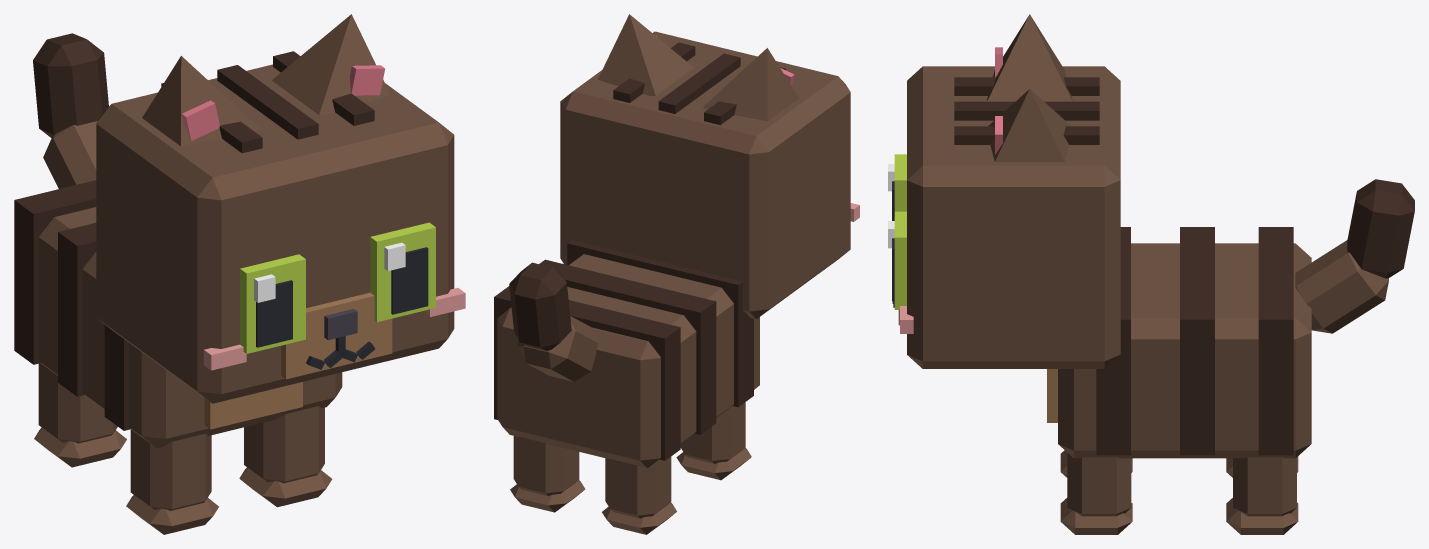
The model's file is CatCafe_Cat_Bramble.glb.
The picture shows the model from 3 angles, left to right: view 1: azimuth 30°, elevation 25°; view 2: azimuth 150°, elevation 25°; view 3: azimuth 270°, elevation 25°; orthographic projection. The views are drawn at different scales.
Parts seen in each view (by area): view 1: CatCafe_Cat_Bramble_Head, CatCafe_Cat_Bramble_Body, CatCafe_Cat_Bramble_Tail, CatCafe_Cat_Bramble_LegF2, CatCafe_Cat_Bramble_LegF1, CatCafe_Cat_Bramble_EarL, CatCafe_Cat_Bramble_Eye2, CatCafe_Cat_Bramble_Eye1, CatCafe_Cat_Bramble_LegB2, CatCafe_Cat_Bramble_EarR; view 2: CatCafe_Cat_Bramble_Head, CatCafe_Cat_Bramble_Body, CatCafe_Cat_Bramble_Tail, CatCafe_Cat_Bramble_LegB2, CatCafe_Cat_Bramble_LegB1, CatCafe_Cat_Bramble_EarL, CatCafe_Cat_Bramble_EarR, CatCafe_Cat_Bramble_LegF2; view 3: CatCafe_Cat_Bramble_Head, CatCafe_Cat_Bramble_Body, CatCafe_Cat_Bramble_Tail, CatCafe_Cat_Bramble_LegF1, CatCafe_Cat_Bramble_LegB1, CatCafe_Cat_Bramble_EarR, CatCafe_Cat_Bramble_EarL, CatCafe_Cat_Bramble_Eye1, CatCafe_Cat_Bramble_Eye2.
Part boxes in pixels (bbox=[...]): CatCafe_Cat_Bramble_Head: bbox=[96, 51, 465, 403]; CatCafe_Cat_Bramble_Body: bbox=[14, 180, 342, 448]; CatCafe_Cat_Bramble_Tail: bbox=[33, 33, 108, 188]; CatCafe_Cat_Bramble_LegF2: bbox=[126, 429, 218, 534]; CatCafe_Cat_Bramble_LegF1: bbox=[239, 406, 332, 507]; CatCafe_Cat_Bramble_EarL: bbox=[271, 14, 390, 115]; CatCafe_Cat_Bramble_Eye2: bbox=[240, 254, 305, 353]; CatCafe_Cat_Bramble_Eye1: bbox=[370, 222, 435, 321]; CatCafe_Cat_Bramble_LegB2: bbox=[34, 363, 126, 467]; CatCafe_Cat_Bramble_EarR: bbox=[142, 56, 260, 146]; CatCafe_Cat_Bramble_Head: bbox=[560, 31, 859, 319]; CatCafe_Cat_Bramble_Body: bbox=[494, 240, 759, 468]; CatCafe_Cat_Bramble_Tail: bbox=[509, 262, 598, 381]; CatCafe_Cat_Bramble_LegB2: bbox=[602, 456, 676, 534]; CatCafe_Cat_Bramble_LegB1: bbox=[510, 436, 585, 512]; CatCafe_Cat_Bramble_EarL: bbox=[597, 14, 693, 95]; CatCafe_Cat_Bramble_EarR: bbox=[703, 48, 798, 121]; CatCafe_Cat_Bramble_LegF2: bbox=[676, 402, 751, 480]; CatCafe_Cat_Bramble_Head: bbox=[892, 66, 1120, 368]; CatCafe_Cat_Bramble_Body: bbox=[1047, 227, 1311, 458]; CatCafe_Cat_Bramble_Tail: bbox=[1295, 179, 1414, 333]; CatCafe_Cat_Bramble_LegF1: bbox=[1060, 453, 1132, 534]; CatCafe_Cat_Bramble_LegB1: bbox=[1226, 457, 1298, 534]; CatCafe_Cat_Bramble_EarR: bbox=[987, 14, 1072, 101]; CatCafe_Cat_Bramble_EarL: bbox=[988, 89, 1070, 161]; CatCafe_Cat_Bramble_Eye1: bbox=[888, 211, 906, 309]; CatCafe_Cat_Bramble_Eye2: bbox=[888, 154, 906, 220].
Bounding box in the file's own units: 1 × 1.86 × 1.97.
1 material, 1 textured.
